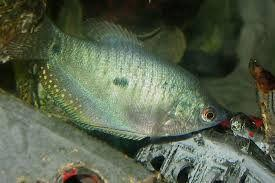Gourami: (7, 8, 233, 141)
